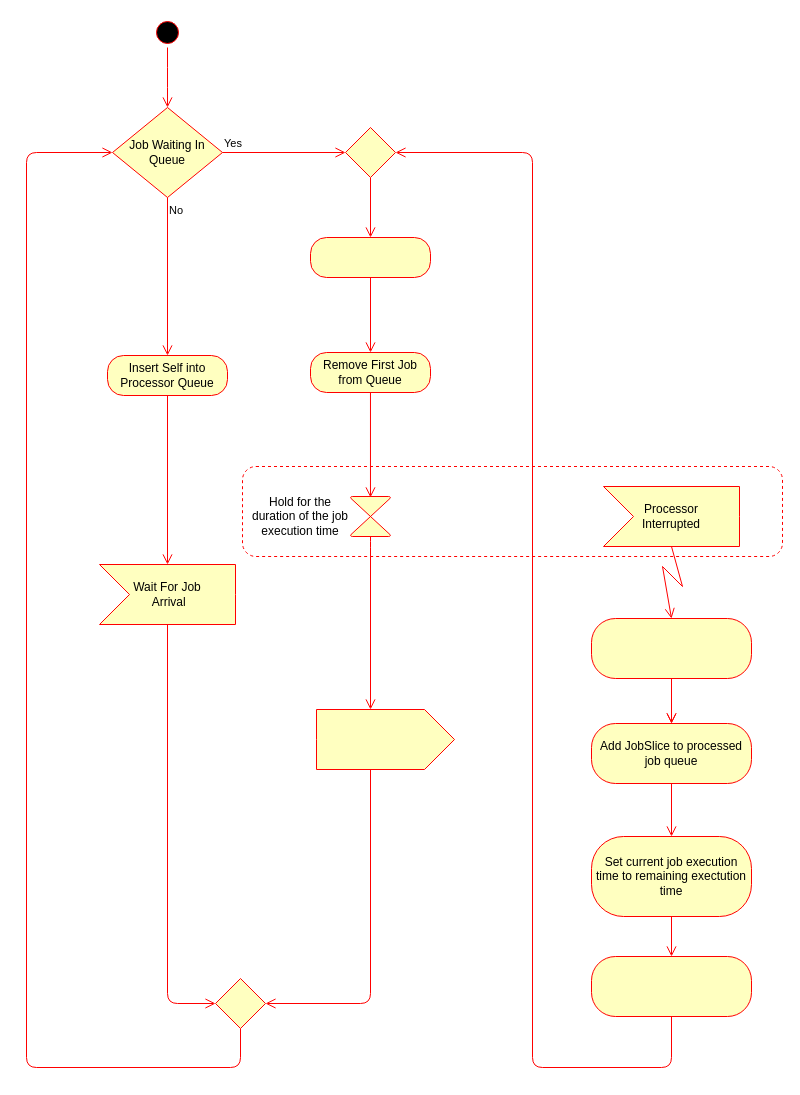
Image size: 800x1095. Some labels were removed from this diagram. Each missing label, with the box of its shape:
Calculate executed job time and create JobSlice: (590, 618, 752, 678)
Insert Job back into job queue: (590, 956, 752, 1016)
Notify Job on End of Processing: (316, 708, 454, 770)
Schedule Job Queue: (310, 236, 430, 278)
